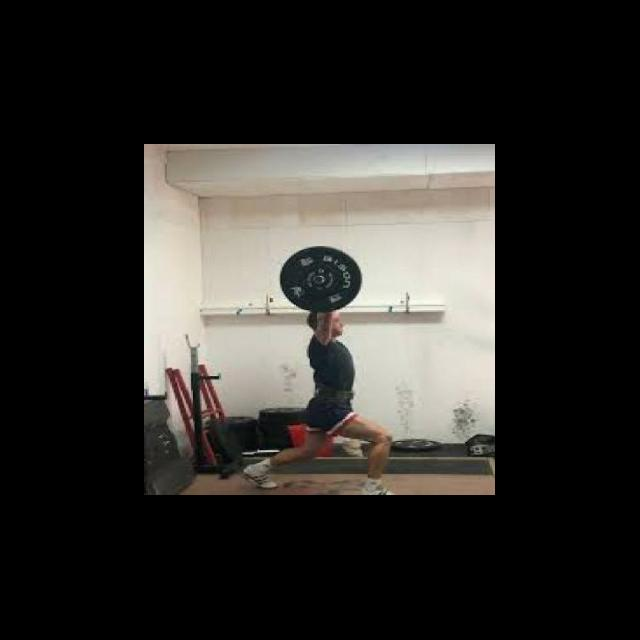barbell: (277, 244, 367, 316)
